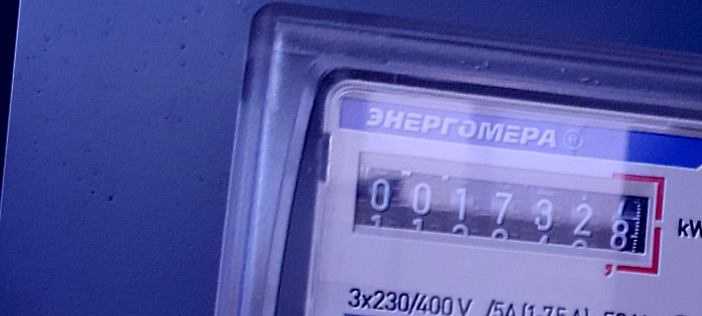0: (369, 175, 394, 214), (410, 181, 434, 216)
1: (453, 185, 471, 222)
2: (571, 202, 595, 239)
3: (531, 197, 557, 234)
7: (489, 189, 516, 228)
8: (608, 217, 630, 253)
screen: (341, 148, 671, 279)
